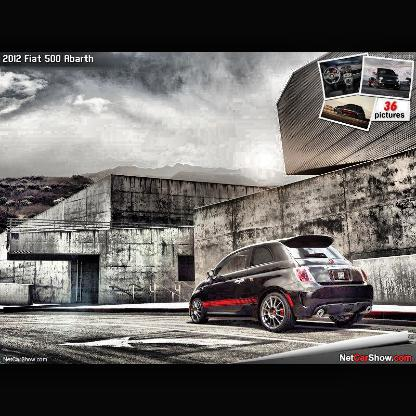FIAT 500 Abarth 2012: (190, 231, 375, 335)
